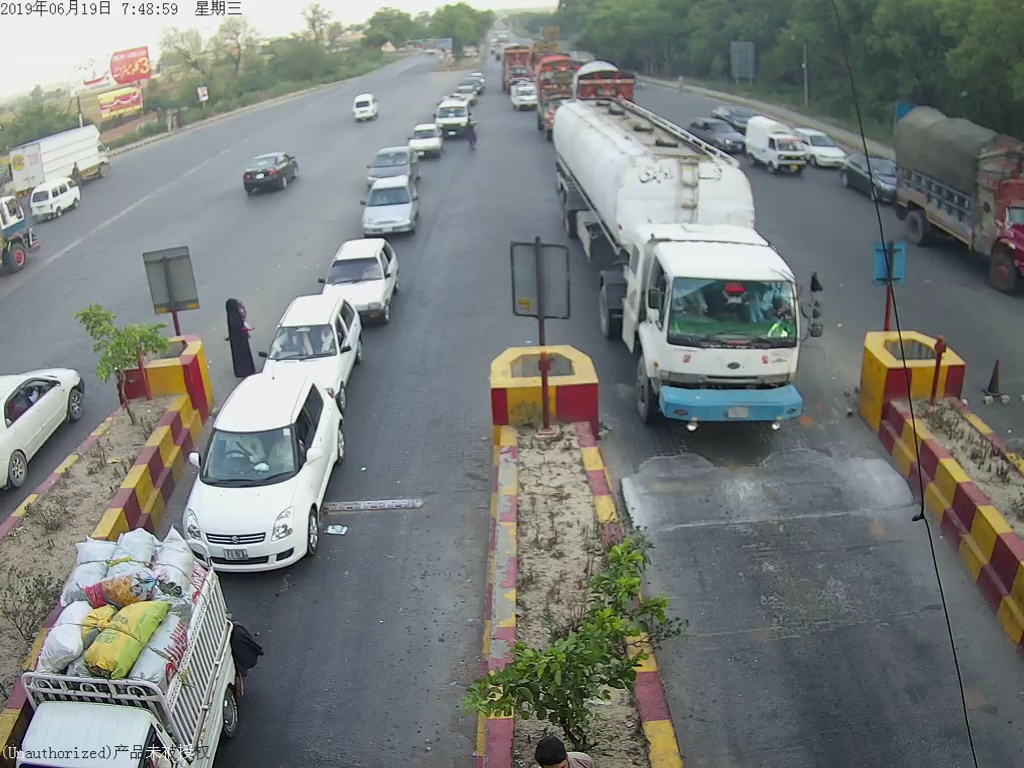Cat-1: (173, 374, 344, 570), (258, 295, 362, 402), (318, 239, 404, 320), (357, 176, 422, 237), (400, 124, 447, 163)
Cat-5: (552, 93, 830, 433)
